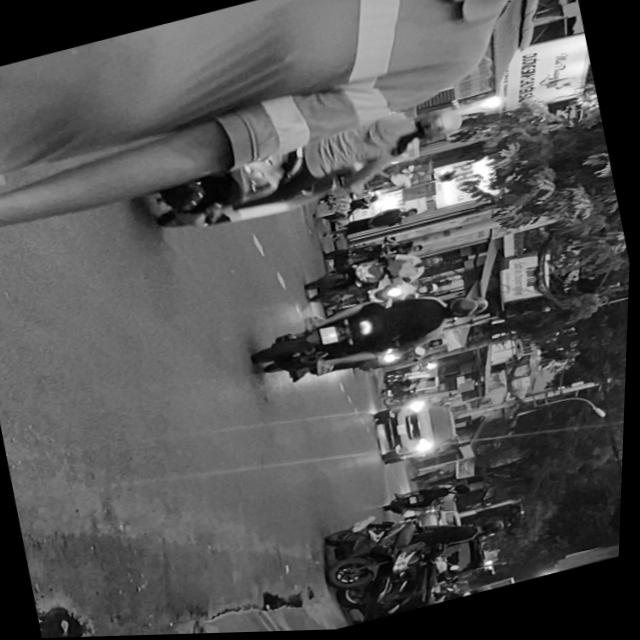helmet: (410, 104, 469, 146), (445, 294, 484, 322)
licenseplate: (126, 104, 481, 250), (248, 276, 494, 394)
nohelmet: (322, 326, 342, 345)
